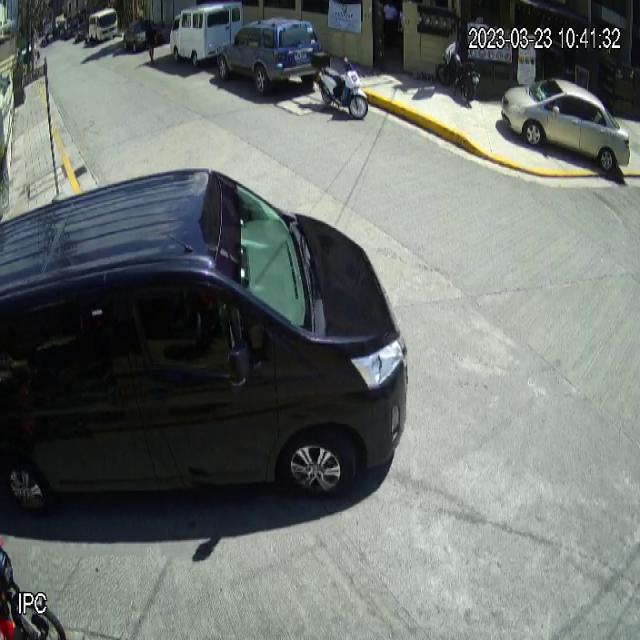Car: (501, 79, 631, 172), (216, 15, 322, 97)
Motorcycle: (312, 51, 368, 120)
Van: (0, 163, 409, 511), (169, 0, 243, 67)
